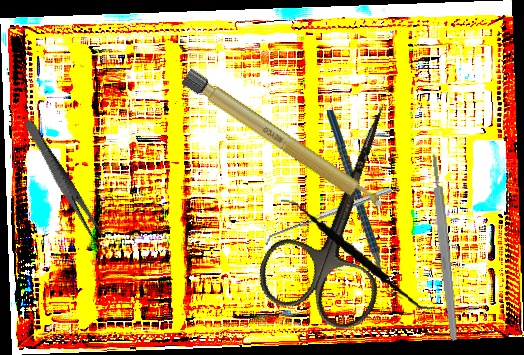Chopper: (323, 109, 407, 300)
Dressing Forceps: (20, 118, 105, 242)
Iris Scissors: (247, 84, 443, 338)
Scalpel Handle: (180, 67, 387, 216), (429, 152, 460, 343)
Spatula Surgical: (271, 197, 445, 311), (262, 186, 395, 247)
